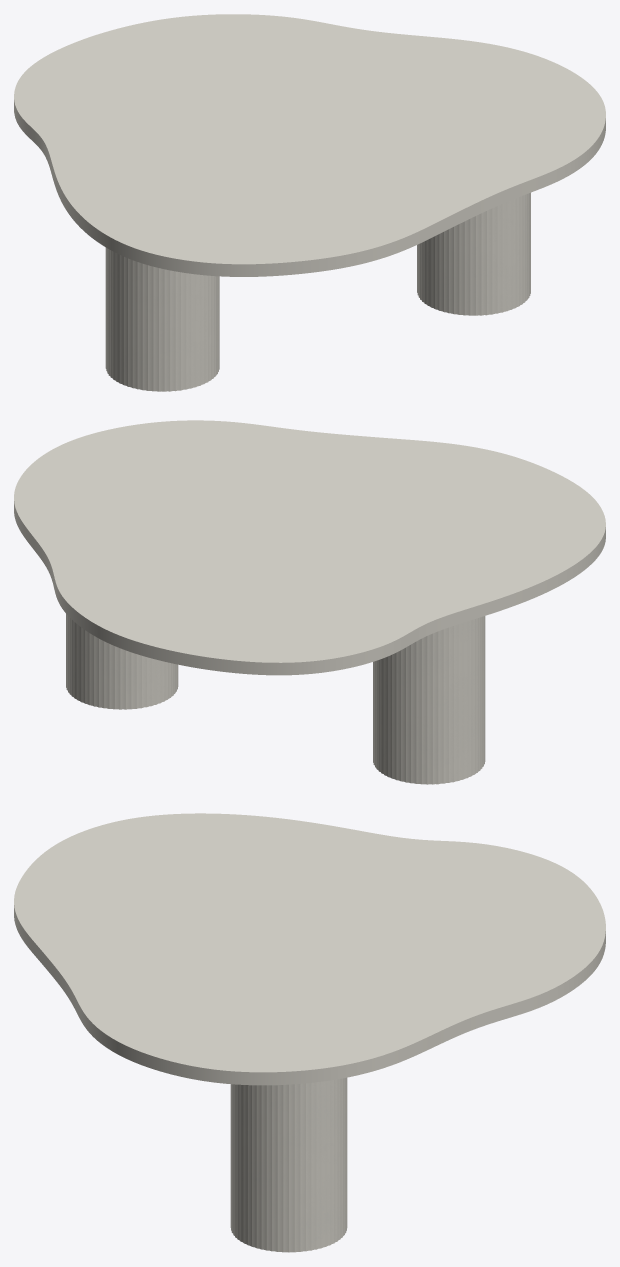
Rendered from pale_topone_standard_ripplesecond.glb.
The picture shows the model from 3 angles, top to bottom: view 1: azimuth 30°, elevation 25°; view 2: azimuth 150°, elevation 25°; view 3: azimuth 270°, elevation 25°; orthographic projection. The views are drawn at different scales.
Visible parts, largest first — view 1: standard_topone, ripplesecond; view 2: standard_topone, ripplesecond; view 3: standard_topone, ripplesecond.
Part boxes in pixels (box(x1,y1,x2,y2)): standard_topone: box(14, 14, 605, 276); ripplesecond: box(105, 192, 530, 391); standard_topone: box(14, 420, 605, 675); ripplesecond: box(66, 614, 485, 784); standard_topone: box(14, 813, 605, 1085); ripplesecond: box(230, 1077, 347, 1252).
Size of the model in its own units: 6.83 by 2.5 by 6.6.
Materials: 1 (1 with a texture image).
